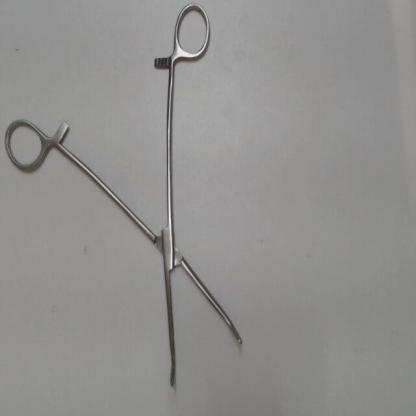Lahey Forceps: (3, 0, 250, 395)
